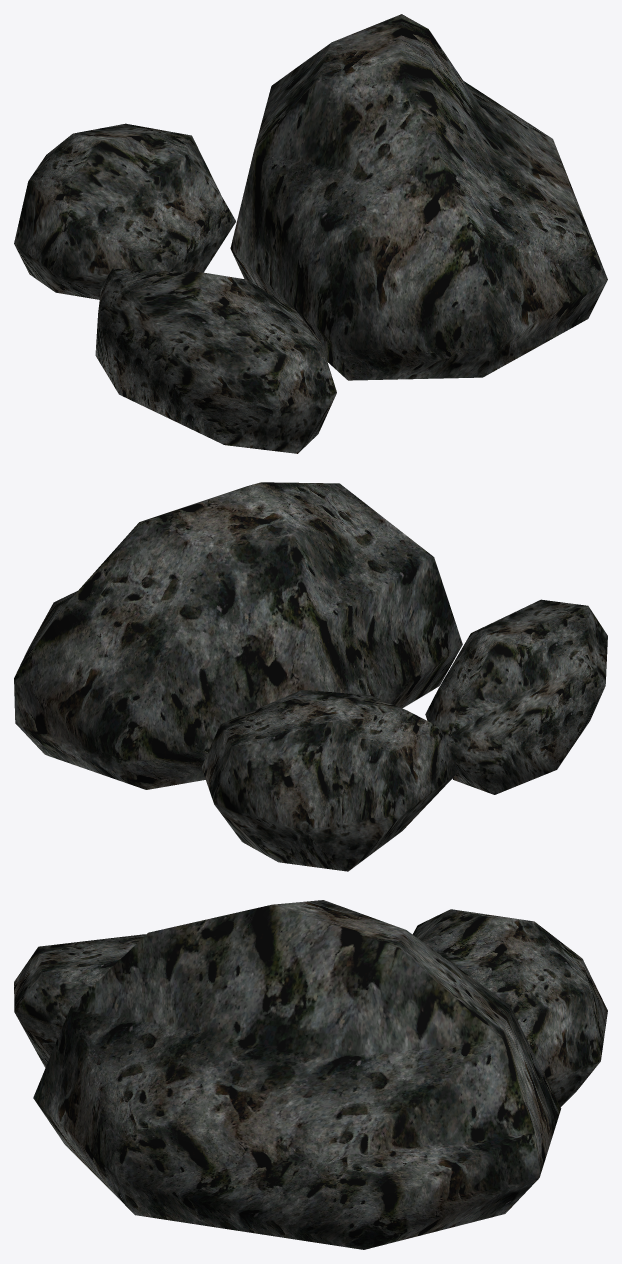
File: rock_scorched_small_l0.fbx
3 views of the same model, one above another, from view 1: azimuth 30°, elevation 25°; view 2: azimuth 150°, elevation 25°; view 3: azimuth 270°, elevation 25° (orthographic). The views are drawn at different scales.
Visible parts, largest first — view 1: mesh_node; view 2: mesh_node; view 3: mesh_node.
Boxes of the visible parts, x1=… form: mesh_node: x1=14, y1=14, x2=607, y2=453; mesh_node: x1=14, y1=482, x2=607, y2=871; mesh_node: x1=14, y1=900, x2=607, y2=1249.
Bounding box in the file's own units: 2.17 × 1.17 × 2.12.
1 material, 1 textured.
